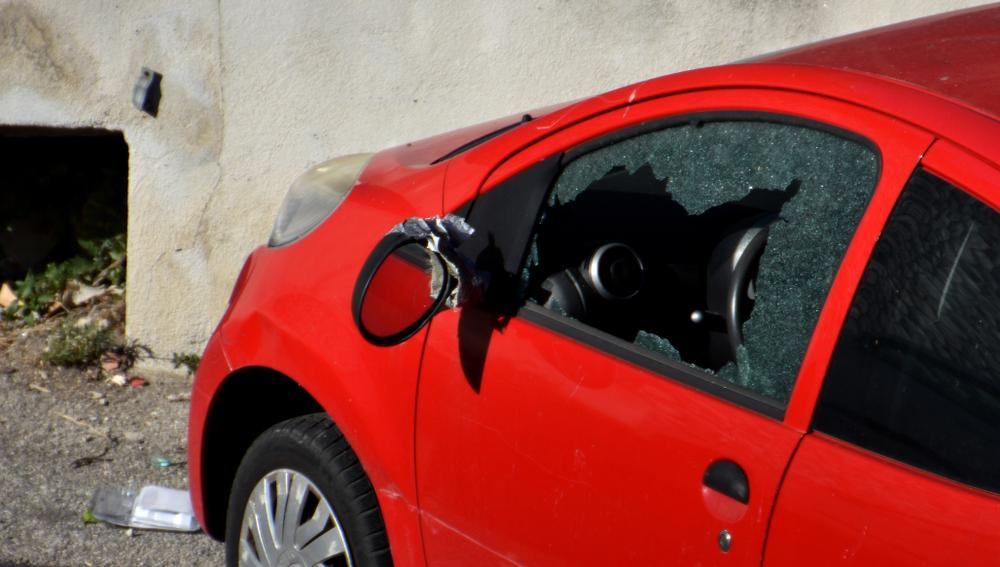glass shatter: (517, 120, 879, 403)
